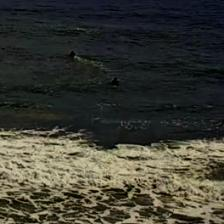surfer: (110, 77, 119, 86), (69, 51, 75, 58)
